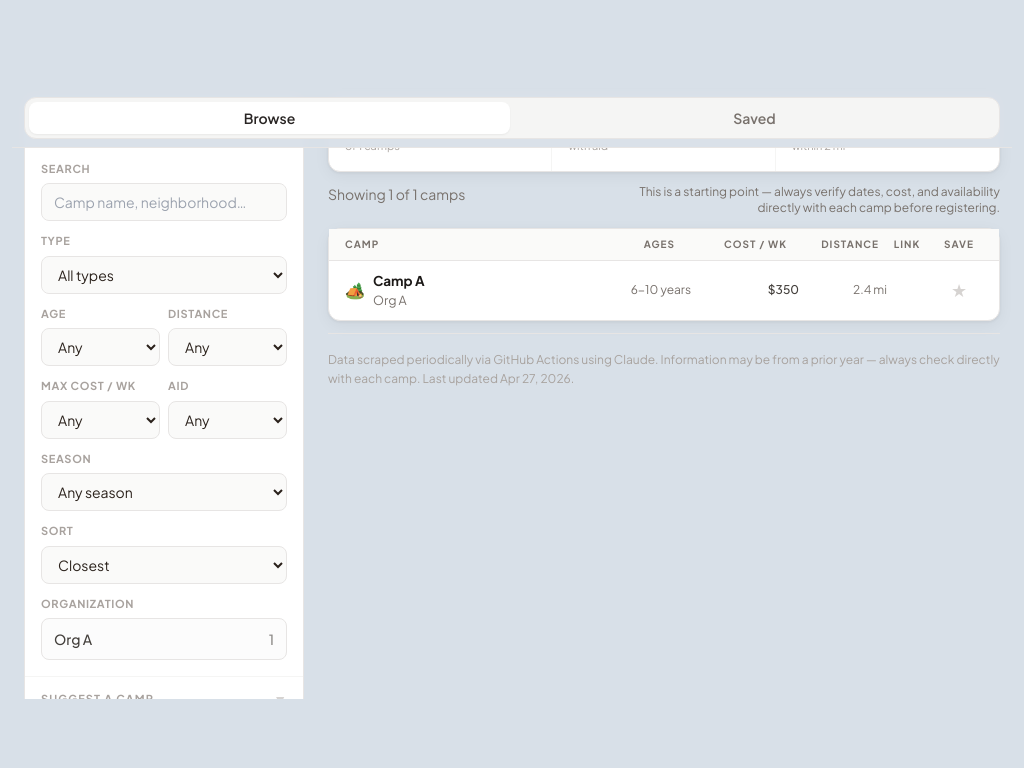
Scenario: FinderLayout › shows empty state on Saved tab when nothing is saved
Step 1. Click the tab "Saved" → (754, 118), box [514,102,995,134]
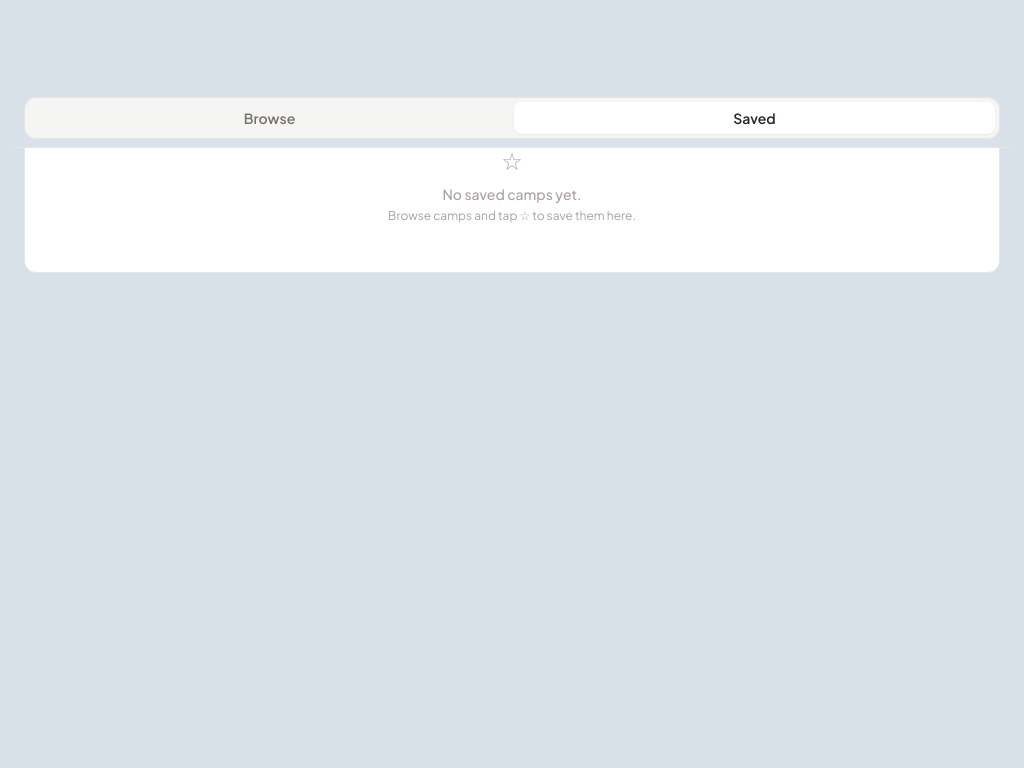
Check: the text "No saved camps yet." is shown, box [442,185,582,203]
